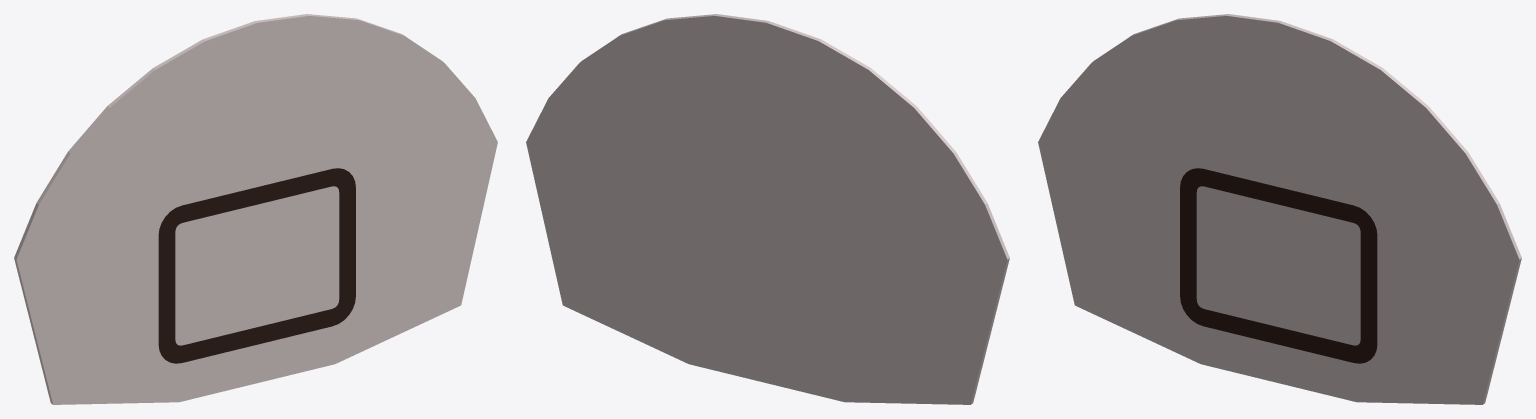
File: tablero.fbx
3 views of the same model, side by side, from view 1: azimuth 30°, elevation 25°; view 2: azimuth 150°, elevation 25°; view 3: azimuth 330°, elevation 25° (orthographic).
Visible parts, largest first — view 1: tablero; view 2: tablero; view 3: tablero.
Part boxes in pixels (x1,y1,x2,y2): tablero: (14, 14, 497, 404); tablero: (526, 14, 1009, 404); tablero: (1038, 14, 1521, 404).
Bounding box in the file's own units: 5.12 × 566 × 405.
